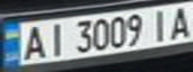0: (90, 16, 112, 51), (109, 14, 130, 48)
3: (69, 17, 93, 53)
9: (124, 11, 148, 46)
A: (15, 22, 48, 61), (163, 3, 193, 39)
I: (145, 7, 175, 42), (42, 20, 69, 57)
